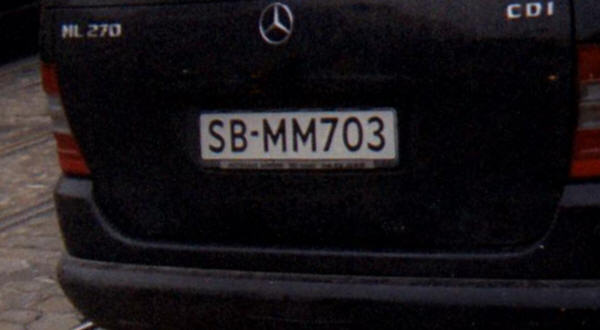license_plate: (197, 106, 397, 163)
